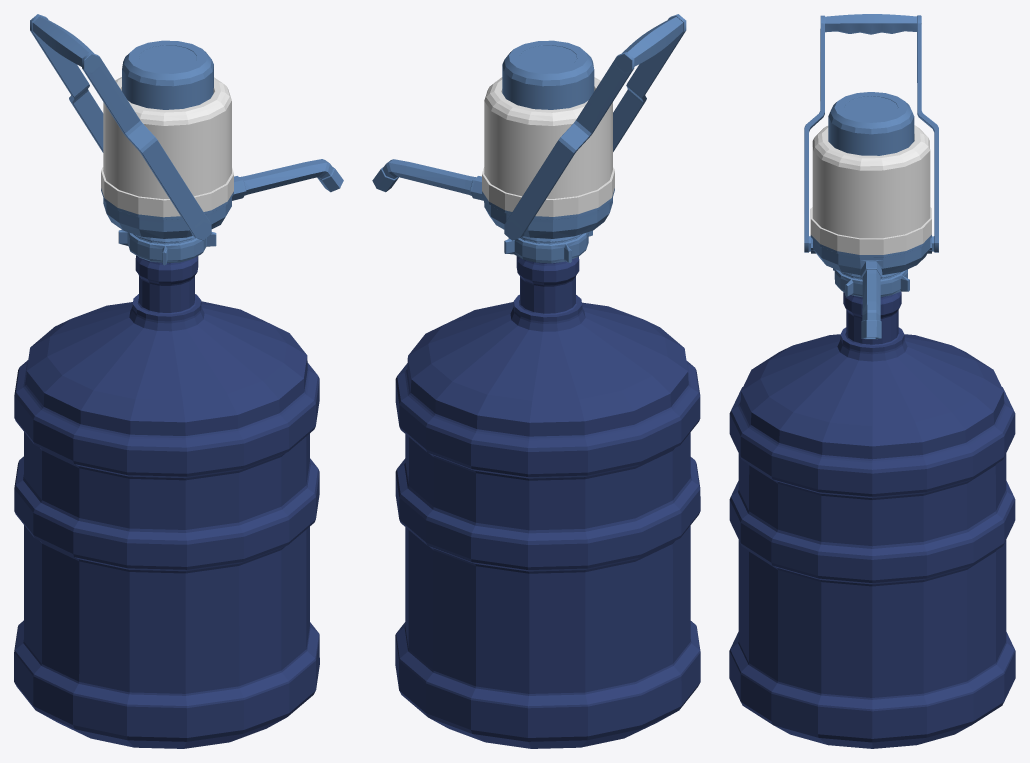
Rendered from water_pump_lowpoly.FBX.
3 renders of one model, left to right at view 1: azimuth 30°, elevation 25°; view 2: azimuth 150°, elevation 25°; view 3: azimuth 270°, elevation 25°, orthographic. The views are drawn at different scales.
Visible parts, largest first — view 1: water_pump_bottle, water_pump_part1, water_pump_handle, water_pump_part2; view 2: water_pump_bottle, water_pump_part1, water_pump_handle, water_pump_part2; view 3: water_pump_bottle, water_pump_part1, water_pump_part2, water_pump_handle.
Boxes of the visible parts, x1=… form: water_pump_bottle: x1=14, y1=255, x2=319, y2=748; water_pump_part1: x1=101, y1=77, x2=343, y2=265; water_pump_handle: x1=30, y1=14, x2=211, y2=240; water_pump_part2: x1=122, y1=40, x2=213, y2=109; water_pump_bottle: x1=395, y1=256, x2=700, y2=748; water_pump_part1: x1=372, y1=77, x2=614, y2=263; water_pump_handle: x1=504, y1=14, x2=686, y2=240; water_pump_part2: x1=502, y1=40, x2=594, y2=109; water_pump_bottle: x1=729, y1=292, x2=1015, y2=748; water_pump_part1: x1=810, y1=125, x2=931, y2=339; water_pump_part2: x1=828, y1=92, x2=914, y2=155; water_pump_handle: x1=804, y1=14, x2=938, y2=252.
Bounding box in the file's own units: 13.03 × 27.98 × 11.34.
